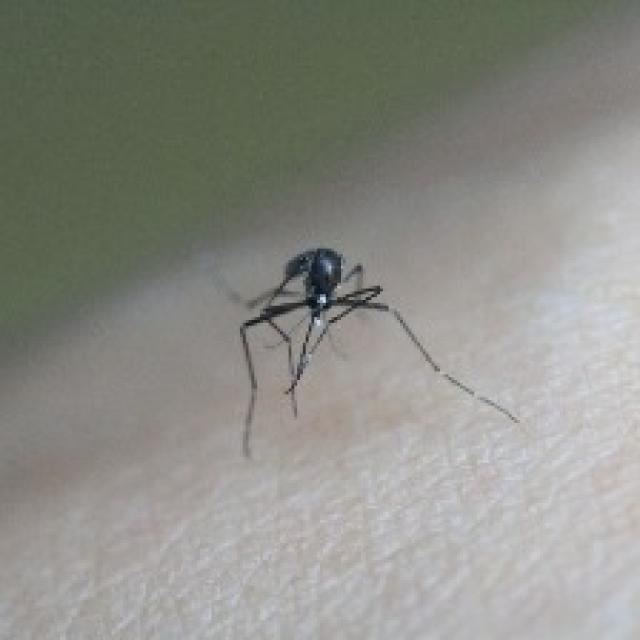aedes: (229, 243, 520, 457)
